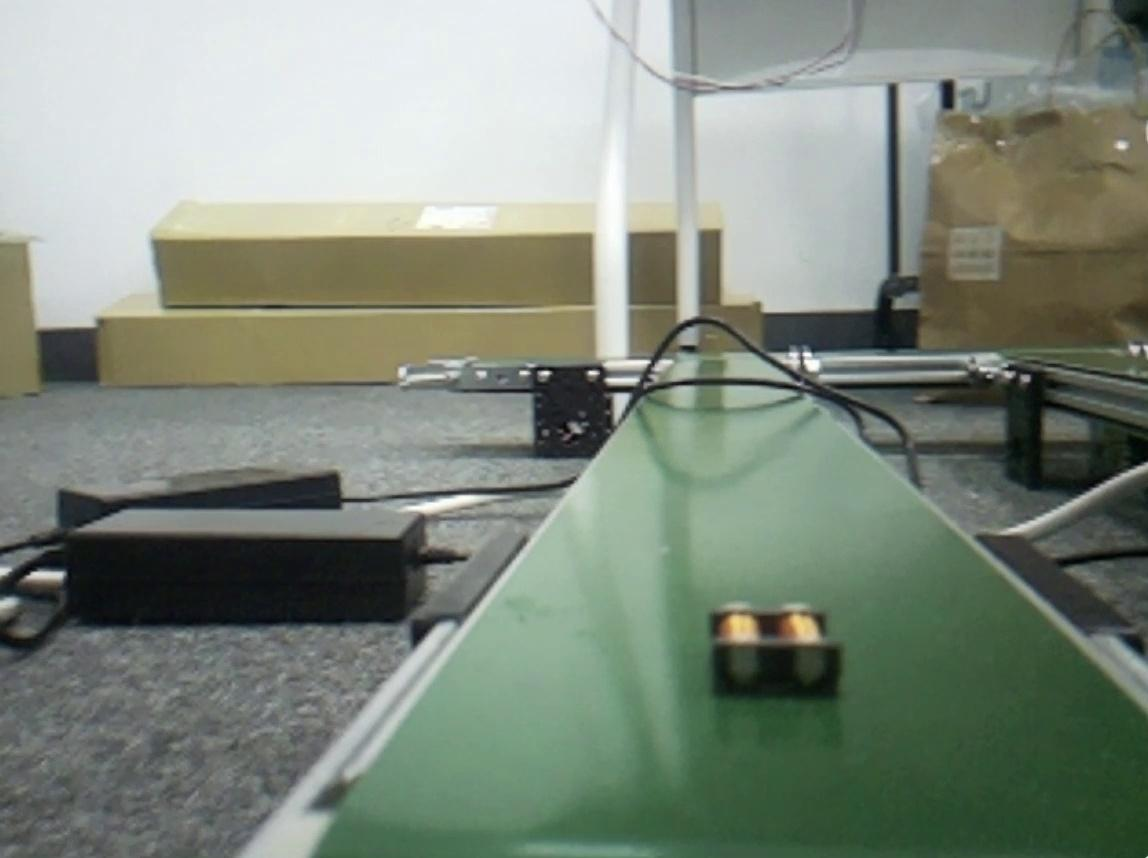inductor: (717, 603, 837, 690)
